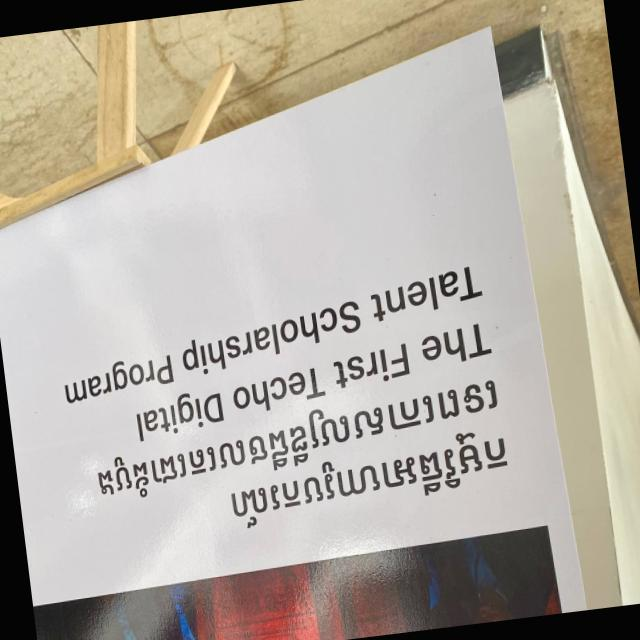Yolov11_80vkh: (91, 361, 511, 510), (222, 417, 518, 540)
